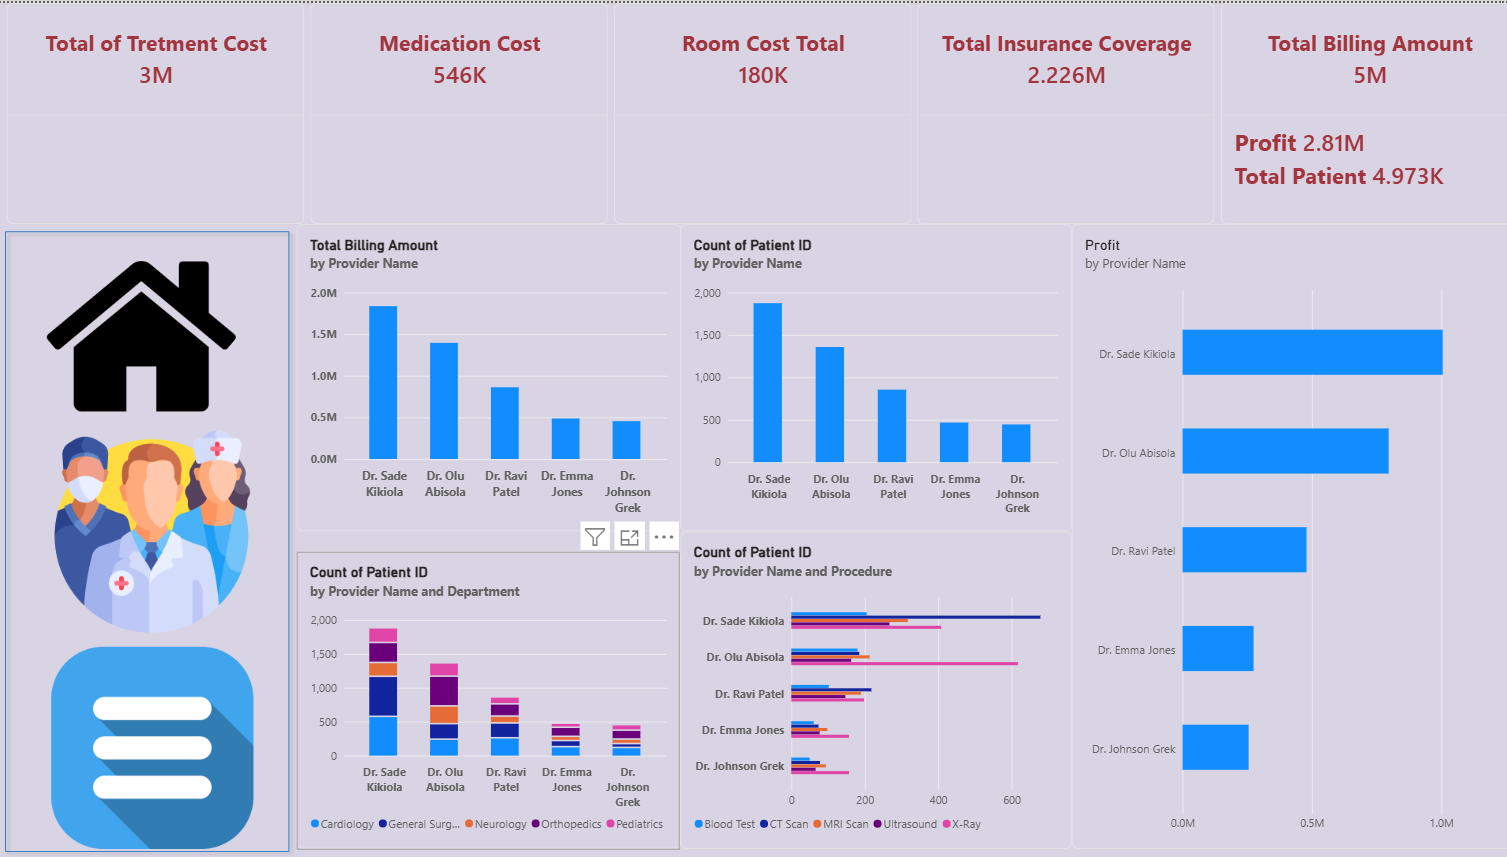

What the dashboard file says about the page in this screenshot:
{"tool":"powerbi","page":{"name":"Provider","canvas":[1920,1080],"ordinal":1},"visuals":[{"type":"cardVisual","fields":{"Data":["Table Measure.Total of Tretment Cost","Table Measure.Medication Cost","Table Measure.Room Cost Total","Table Measure.Total Insurance Coverage","Table Measure.Total Billing Amount"]},"box":[10.8,0,1908.8,279.2],"z":0},{"type":"shape","box":[0,279.2,376.6,800.7],"z":1000},{"type":"image","box":[0,300.8,361.4,238.1],"z":2000},{"type":"image","box":[6.5,538.9,376.6,255.4],"z":3000},{"type":"image","box":[7,811.7,376.6,255.4],"z":4000},{"type":"columnChart","fields":{"Y":["Table Measure.Total Billing Amount"],"Category":["providers.Provider Name"]},"box":[376.6,279.2,484.8,387.4],"z":5000},{"type":"columnChart","fields":{"Y":["CountNonNull(visits.Patient ID)"],"Category":["providers.Provider Name"]},"box":[861.3,279.2,493.4,387.4],"z":6000},{"type":"columnChart","fields":{"Y":["CountNonNull(visits.Patient ID)"],"Category":["providers.Provider Name"],"Series":["departments.Department"]},"box":[376.6,692.5,484.8,374.4],"z":7000},{"type":"clusteredBarChart","fields":{"Category":["providers.Provider Name"],"Y":["Table Measure.Profit"]},"box":[1354.8,279.2,564.8,787.7],"z":8000},{"type":"clusteredBarChart","fields":{"Y":["CountNonNull(visits.Patient ID)"],"Series":["procedures.Procedure"],"Category":["providers.Provider Name"]},"box":[861.3,666.6,493.4,400.4],"z":9000}]}

Visuals, with their boxes in screenshot pixels (x1, y1, x2, y2), scaled from the page's 1920x1080 canvas onto the 1507x857 screenshot:
cardVisual - Table Measure.Total of Tretment Cost x Table Measure.Medication Cost: <region>8, 0, 1506, 222</region>
shape: <region>0, 222, 296, 856</region>
image: <region>0, 239, 284, 428</region>
image: <region>5, 428, 301, 630</region>
image: <region>5, 644, 301, 847</region>
columnChart - Table Measure.Total Billing Amount x providers.Provider Name: <region>296, 222, 676, 529</region>
columnChart - CountNonNull(visits.Patient ID) x providers.Provider Name: <region>676, 222, 1063, 529</region>
columnChart - CountNonNull(visits.Patient ID) x providers.Provider Name: <region>296, 550, 676, 847</region>
clusteredBarChart - providers.Provider Name x Table Measure.Profit: <region>1063, 222, 1506, 847</region>
clusteredBarChart - CountNonNull(visits.Patient ID) x procedures.Procedure: <region>676, 529, 1063, 847</region>
